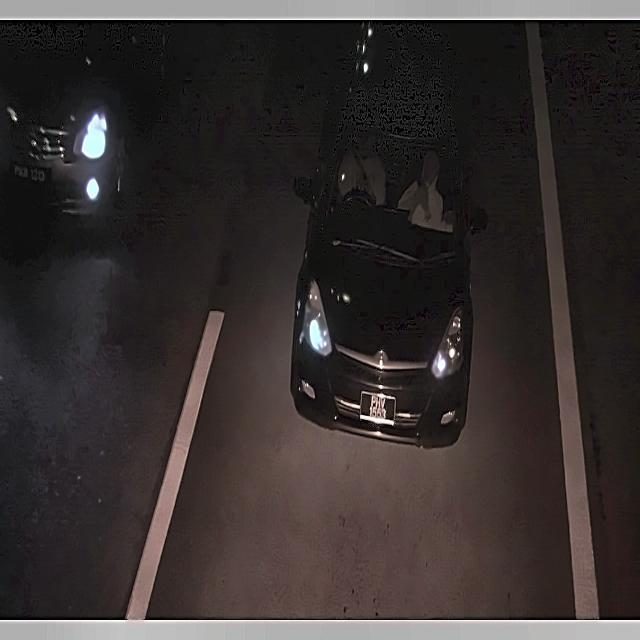car: (353, 383, 399, 431), (6, 156, 53, 194)
